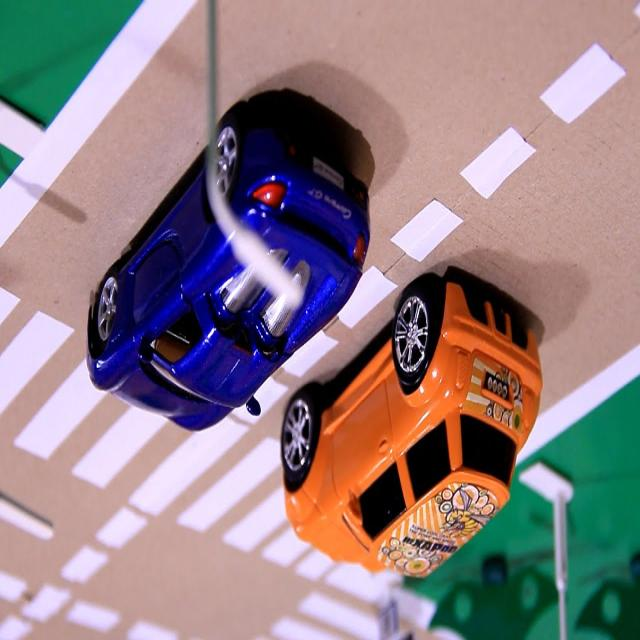Car: (86, 109, 371, 434), (281, 274, 544, 580)
